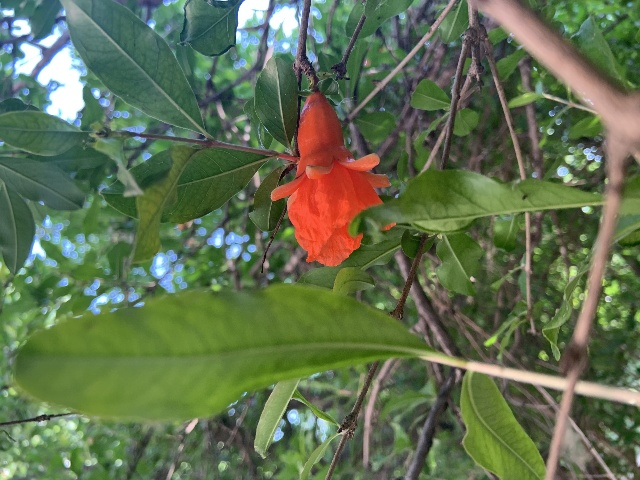flower: (270, 92, 393, 266)
